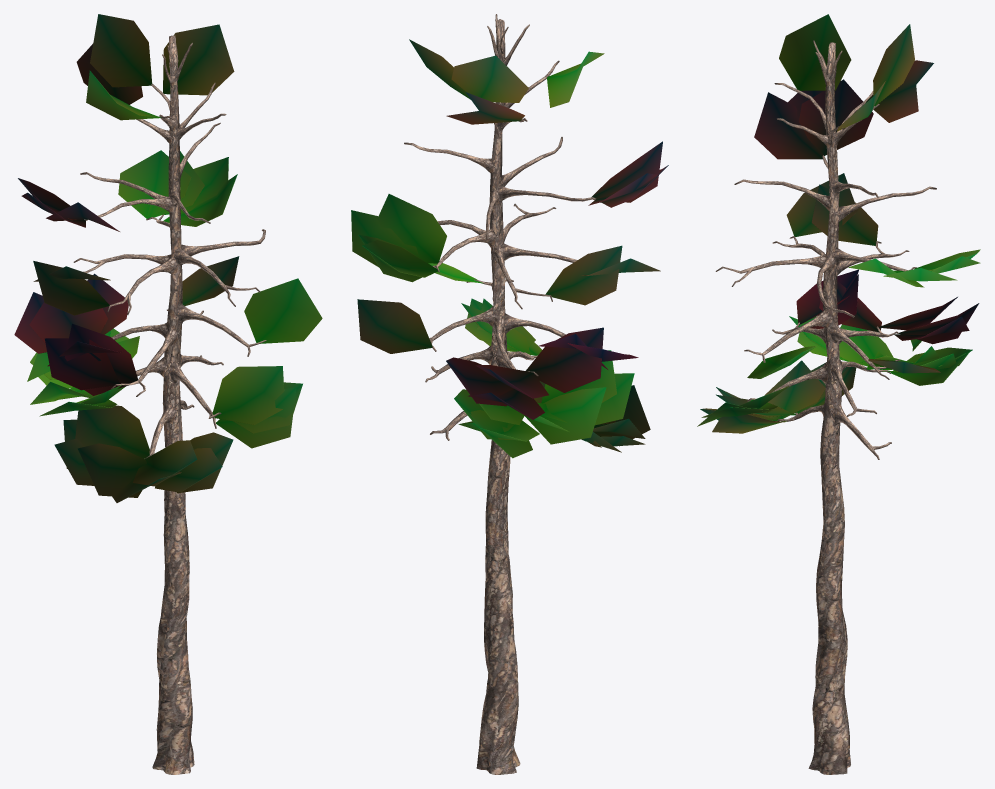
File: worst_treee.fbx
3 renders of one model, left to right at view 1: azimuth 30°, elevation 25°; view 2: azimuth 150°, elevation 25°; view 3: azimuth 270°, elevation 25°, orthographic. The views are drawn at different scales.
Visible parts, largest first — view 1: Tree_1, Tree_0; view 2: Tree_1, Tree_0; view 3: Tree_1, Tree_0.
Boxes of the visible parts, box(x1,y1,x2,y2) form: Tree_1: box(14, 14, 322, 502); Tree_0: box(73, 35, 266, 774); Tree_1: box(351, 39, 668, 458); Tree_0: box(404, 14, 600, 774); Tree_1: box(697, 14, 980, 433); Tree_0: box(715, 40, 936, 774).
Size of the model in its own units: 185 by 482 by 171.
